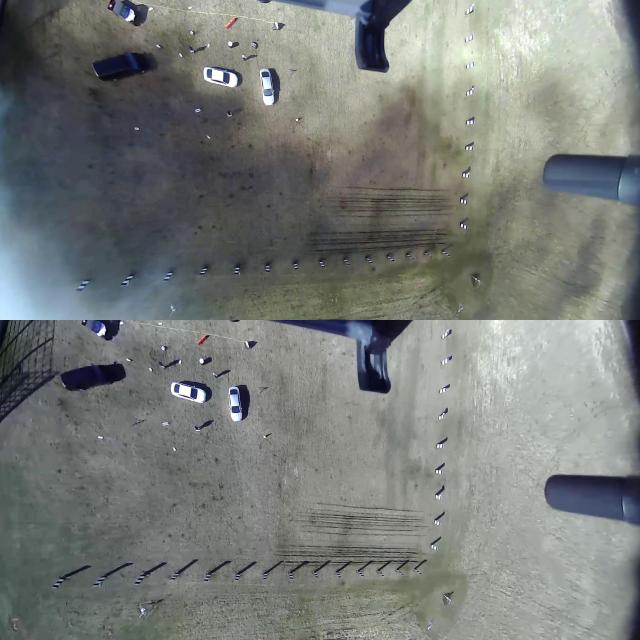car: (90, 50, 150, 83), (171, 380, 210, 403), (204, 64, 241, 88), (106, 0, 138, 23), (259, 66, 277, 106), (227, 384, 243, 422)
